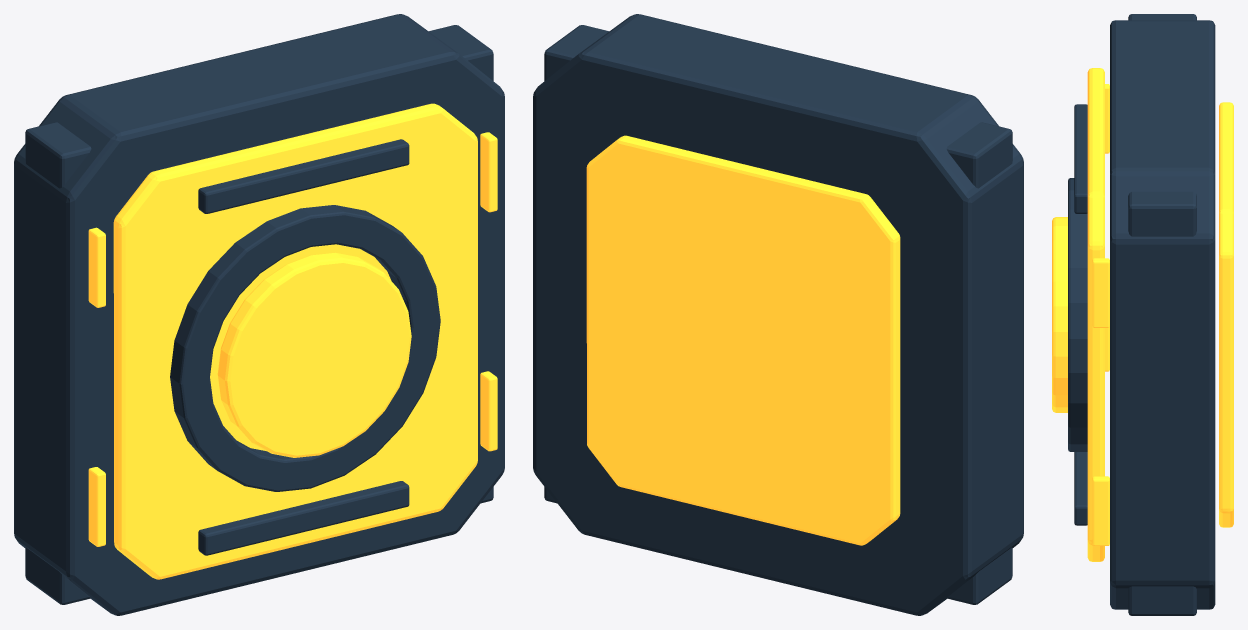
The model's file is Target_Capsule.fbx.
3 views of the same model, side by side, from view 1: azimuth 30°, elevation 25°; view 2: azimuth 150°, elevation 25°; view 3: azimuth 270°, elevation 25° (orthographic). The views are drawn at different scales.
Parts seen in each view (by area): view 1: Target_Capsule; view 2: Target_Capsule; view 3: Target_Capsule.
Part boxes in pixels (x1,y1,x2,y2): Target_Capsule: (14,14,504,615); Target_Capsule: (533,14,1023,615); Target_Capsule: (1052,14,1233,615).
Size of the model in its own units: 0.188 by 0.198 by 0.074.
